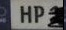character: (20, 5, 32, 24), (33, 5, 44, 23)
